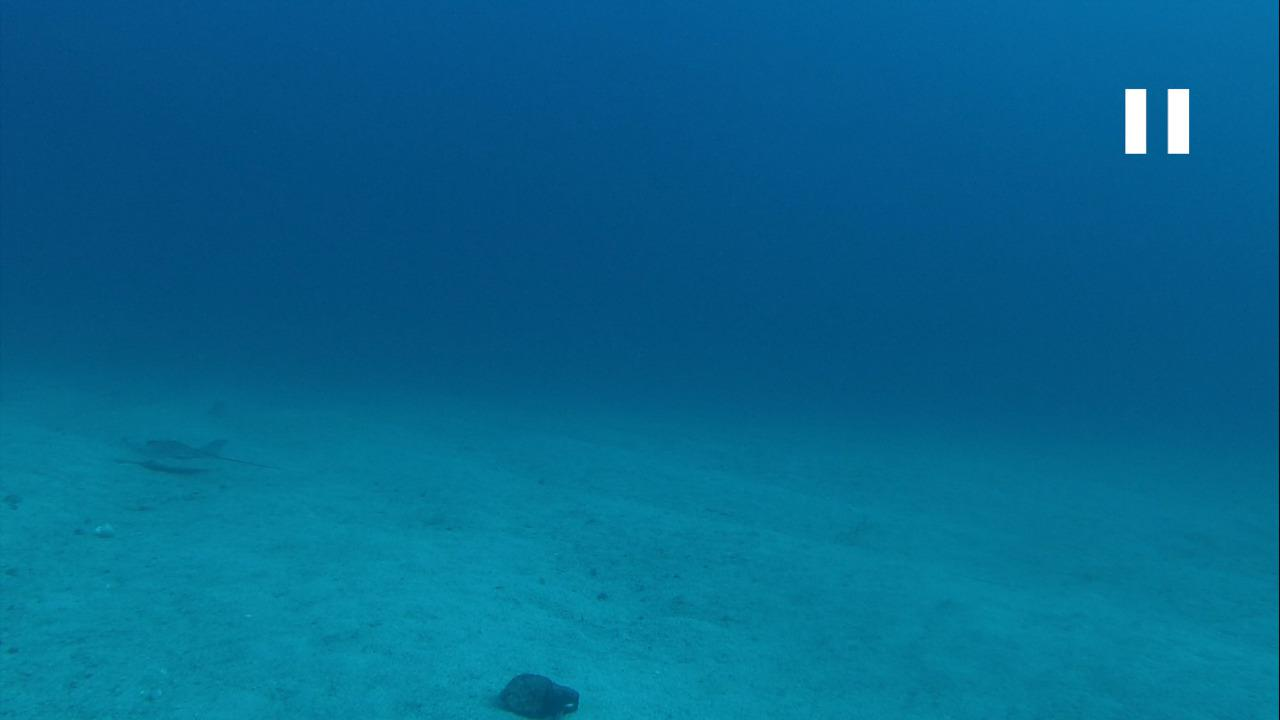myliobatis: (114, 421, 272, 482)
